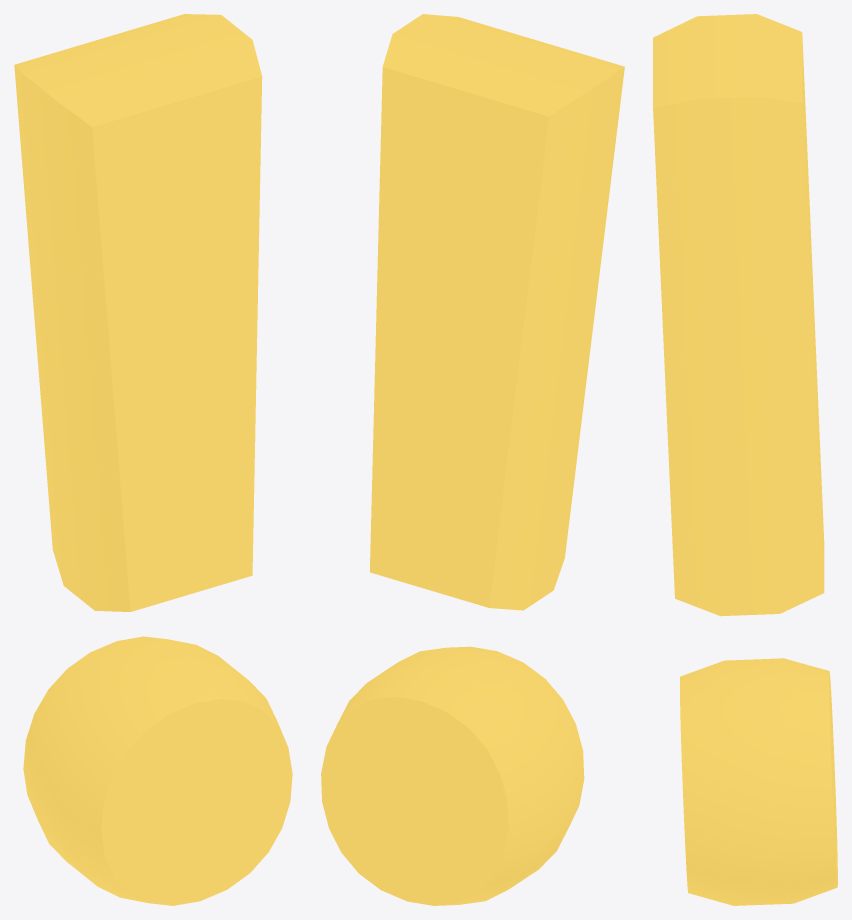
File: alertSign.fbx
3 renders of one model, left to right at view 1: azimuth 30°, elevation 25°; view 2: azimuth 150°, elevation 25°; view 3: azimuth 270°, elevation 25°, orthographic. The views are drawn at different scales.
Visible parts, largest first — view 1: alert_mesh; view 2: alert_mesh; view 3: alert_mesh.
Part boxes in pixels (bbox=[...]): alert_mesh: bbox=[14, 14, 292, 905]; alert_mesh: bbox=[321, 14, 624, 905]; alert_mesh: bbox=[653, 14, 837, 905].
Bounding box in the file's own units: 0.0744 × 0.2493 × 0.0505.
